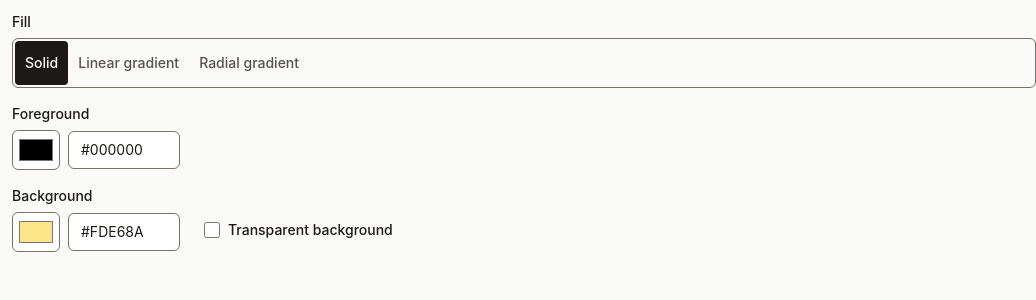
ColorFields › turns the background off and back on, keeping its color
The width and height of the screenshot is (1036, 300).
Later steps or results of the test are not shown.
Click the checkbox labelled "Transparent background": (212, 230) [204,222,220,238]
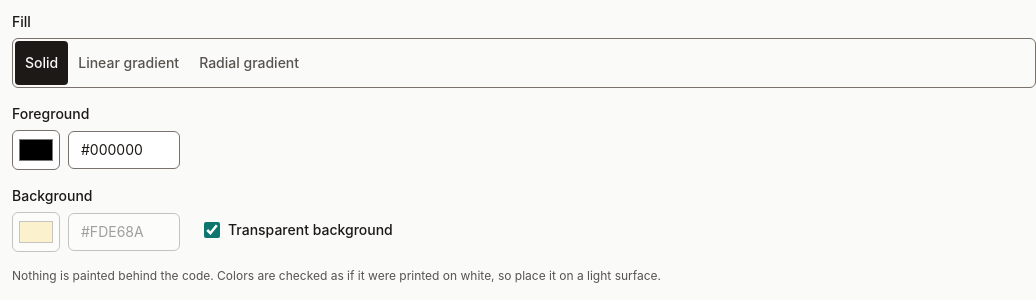
Expected: the field labelled "Background" is disabled, [68,213,180,251]
Expected: the text "Nothing is painted behind the code. Colors are checked as if it were printed on white, so place it on a light surface." is shown, [12,268,661,283]
